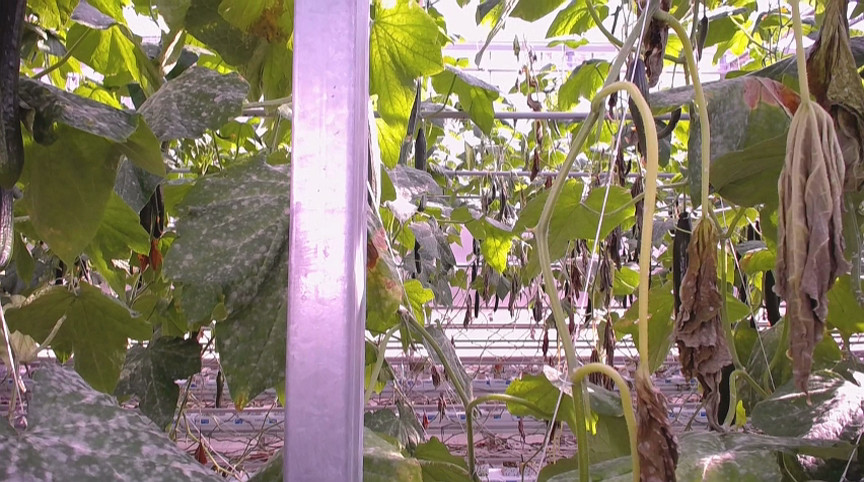cucumber: (1, 1, 23, 187), (672, 212, 694, 307), (413, 128, 429, 173)
